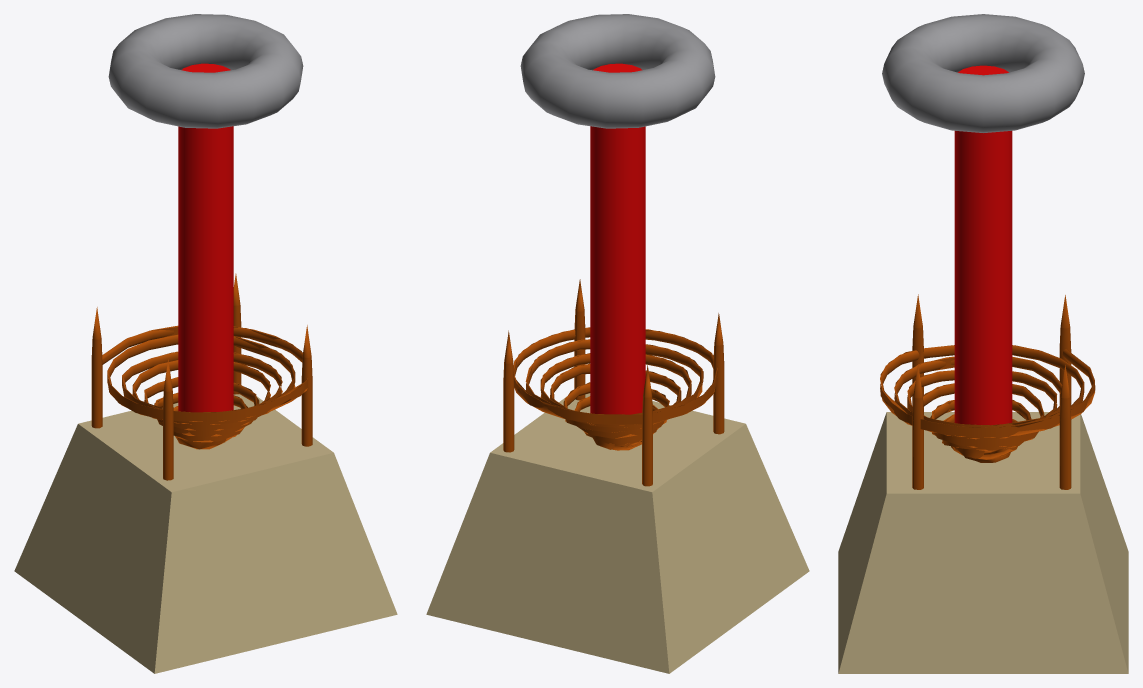
The model's file is TeslaCoil.fbx.
The picture shows the model from 3 angles, left to right: view 1: azimuth 30°, elevation 25°; view 2: azimuth 150°, elevation 25°; view 3: azimuth 270°, elevation 25°; orthographic projection. The views are drawn at different scales.
Visible parts, largest first — view 1: pCube1, pTorus1, pCylinder1, nurbsToPoly2, nurbsToPoly1, pCylinder4, pCylinder6, pCylinder7; view 2: pCube1, pTorus1, pCylinder1, nurbsToPoly2, nurbsToPoly1, pCylinder5, pCylinder7, pCylinder4, pCylinder6; view 3: pCube1, pTorus1, pCylinder1, nurbsToPoly2, nurbsToPoly1, pCylinder5, pCylinder6, pCylinder4, pCylinder7.
Boxes of the visible parts, x1,y1,x2,y2 form: pCube1: (14,394,397,673); pTorus1: (108,14,303,128); pCylinder1: (178,63,233,412); nurbsToPoly2: (102,325,307,449); nurbsToPoly1: (107,327,307,449); pCylinder4: (91,307,102,428); pCylinder6: (301,325,312,446); pCylinder7: (163,359,173,480); pCube1: (426,393,809,673); pTorus1: (520,14,715,128); pCylinder1: (590,63,645,414); nurbsToPoly2: (513,327,717,450); nurbsToPoly1: (513,327,717,450); pCylinder5: (503,330,514,452); pCylinder7: (713,313,724,434); pCylinder4: (642,365,652,486); pCylinder6: (574,279,585,400); pCube1: (838,412,1128,673); pTorus1: (882,14,1084,132); pCylinder1: (954,65,1012,425); nurbsToPoly2: (880,345,1094,458); nurbsToPoly1: (880,345,1095,462); pCylinder5: (1059,365,1071,489); pCylinder6: (912,364,923,489); pCylinder4: (1059,295,1071,405); pCylinder7: (912,294,923,414).
Bounding box in the file's own units: 5 × 10.76 × 5.
